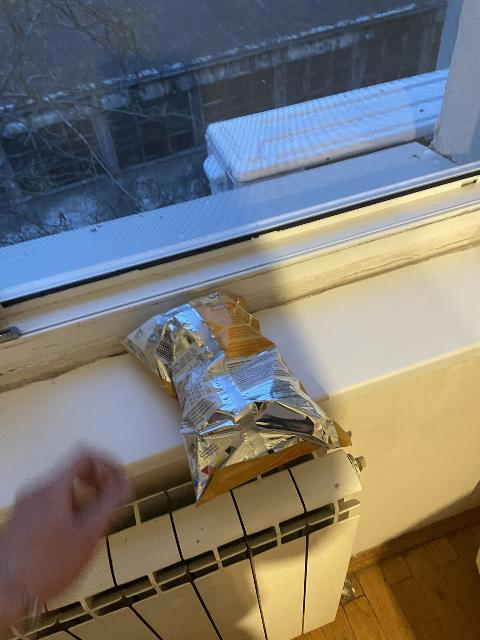Chio Hula Hoops Cheese 70g: (122, 296, 350, 502)
